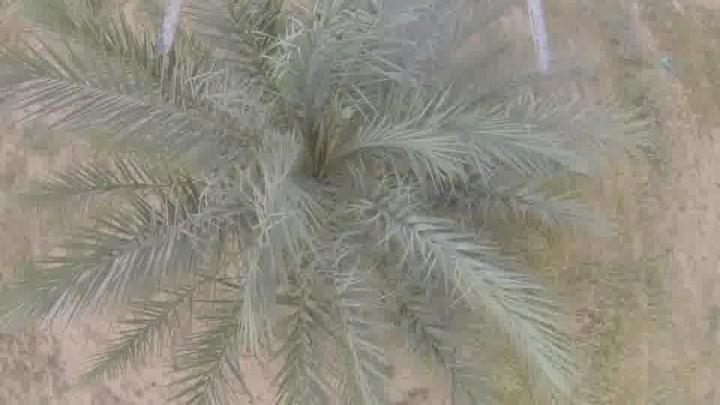Date-Palm-Crown: (112, 2, 510, 328)
